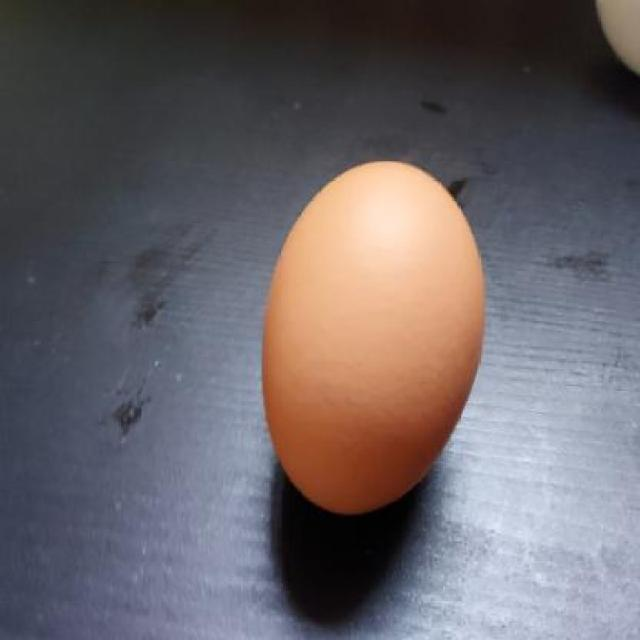biodegradable: (263, 158, 488, 518)
